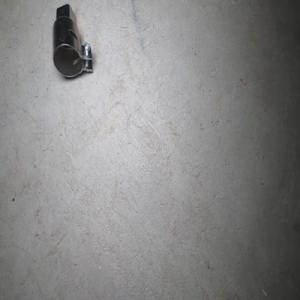MetalPart: (52, 3, 93, 78)
